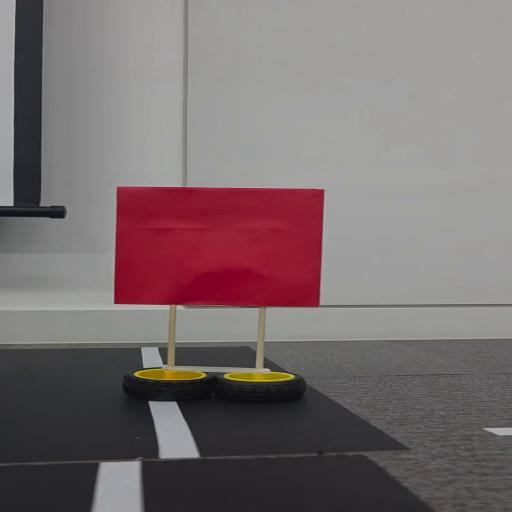Sign_A: (108, 182, 340, 406)
